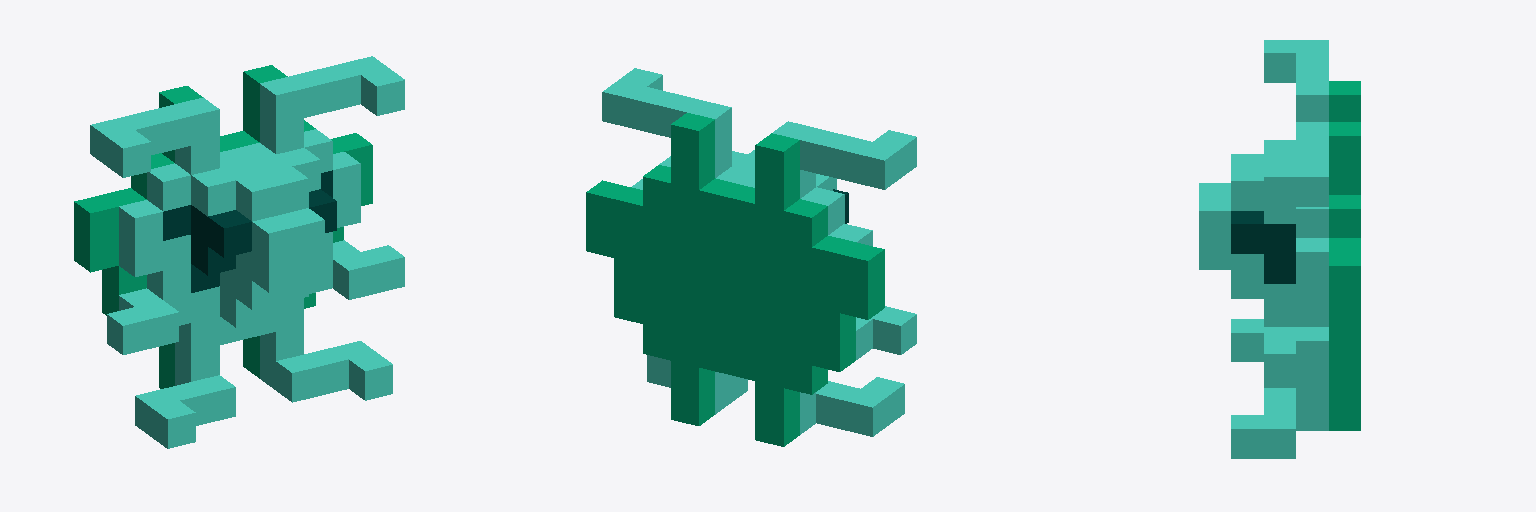
3 renders of one model, left to right at view 1: azimuth 30°, elevation 25°; view 2: azimuth 150°, elevation 25°; view 3: azimuth 270°, elevation 25°, orthographic.
Visible parts, largest first — view 1: object 1; view 2: object 1; view 3: object 1.
Boxes of the visible parts, box(x1,y1,x2,y2) form: object 1: box(74, 56, 404, 448); object 1: box(586, 68, 916, 446); object 1: box(1199, 40, 1360, 458).
Bounding box in the file's own units: 1 × 1 × 0.5.
Materials: 1 (1 with a texture image).